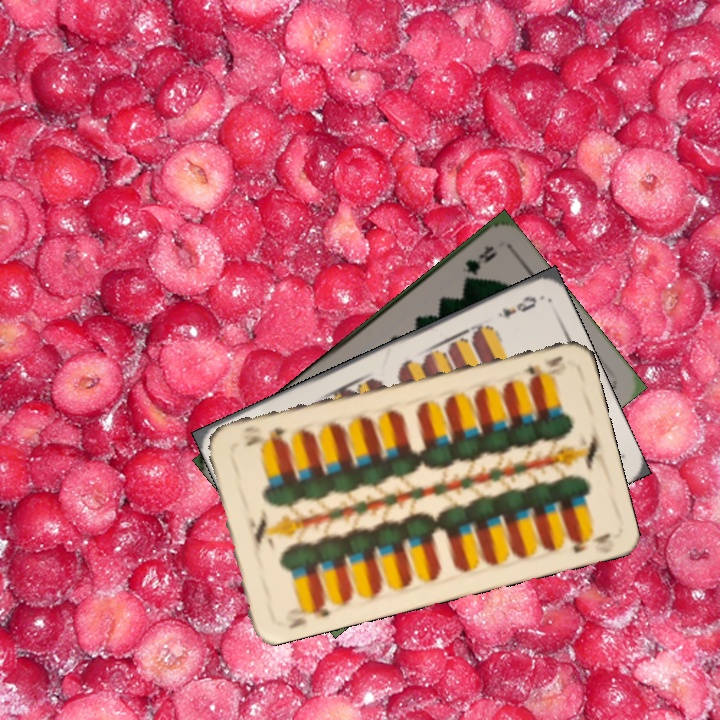E10: (284, 596, 332, 632), (520, 352, 565, 378)
E9: (493, 291, 540, 322)
G9: (461, 241, 500, 277)
